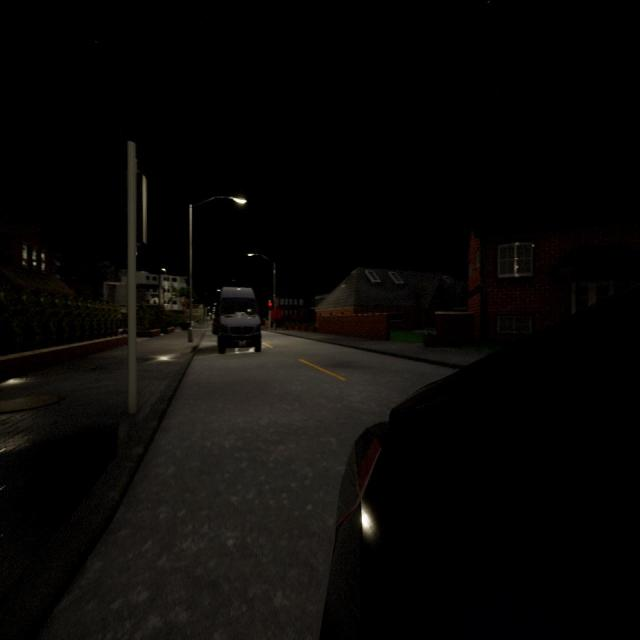Vehicle: (324, 285, 640, 640), (217, 287, 261, 353)
traffic_light: (134, 172, 148, 248), (268, 302, 272, 311)
